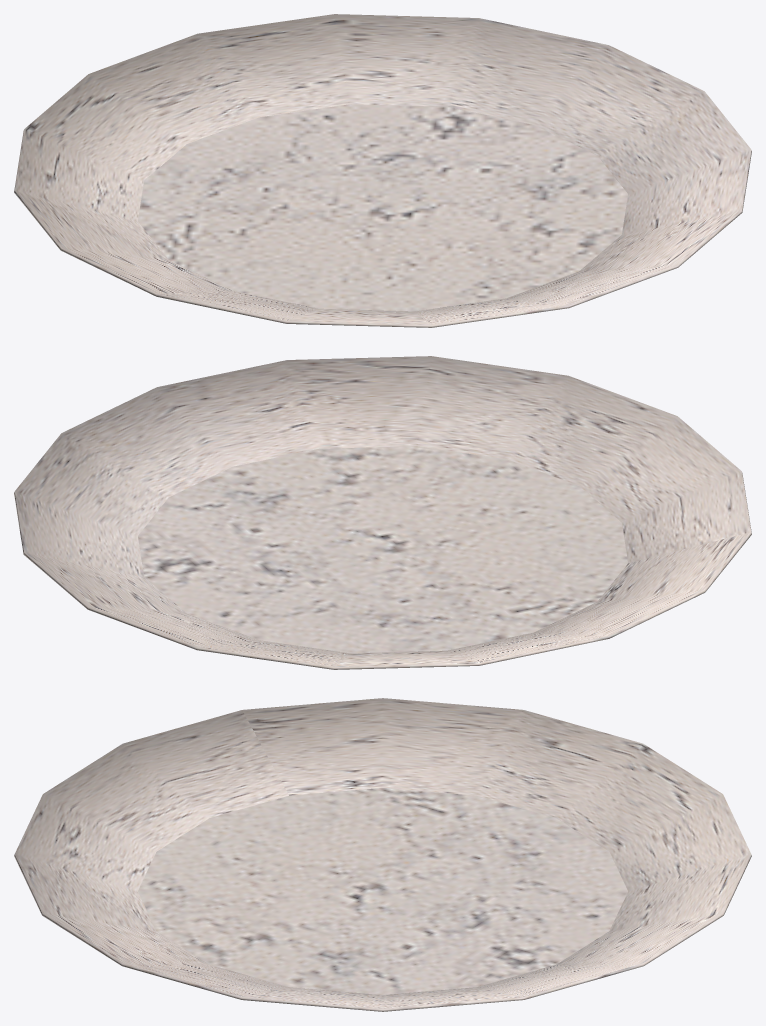
The model's file is Platovacio.fbx.
3 views of the same model, one above another, from view 1: azimuth 30°, elevation 25°; view 2: azimuth 150°, elevation 25°; view 3: azimuth 270°, elevation 25° (orthographic).
Parts seen in each view (by area): view 1: SM_Plate; view 2: SM_Plate; view 3: SM_Plate.
Boxes of the visible parts, x1,y1,x2,y2 form: SM_Plate: (14,14,751,327); SM_Plate: (14,356,751,669); SM_Plate: (14,698,751,1011).
Bounding box in the file's own units: 577 × 34.34 × 577.
1 material, 1 textured.
